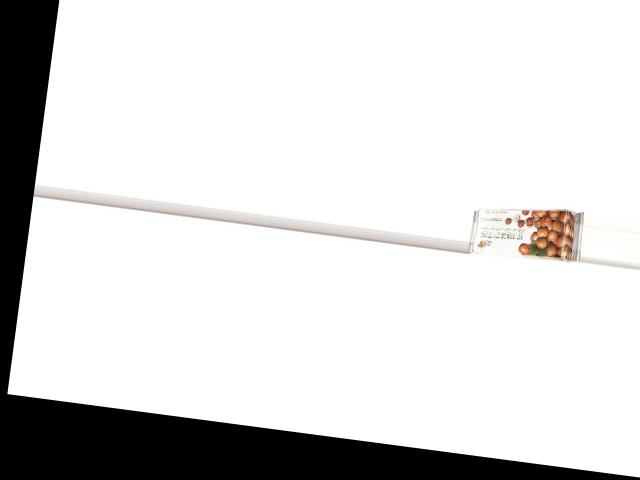chocolate: (467, 197, 584, 264)
